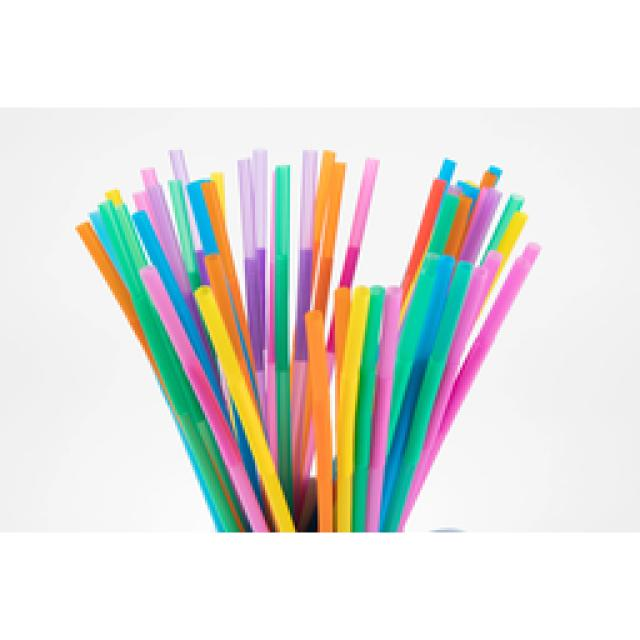plastic: (72, 142, 542, 530)
